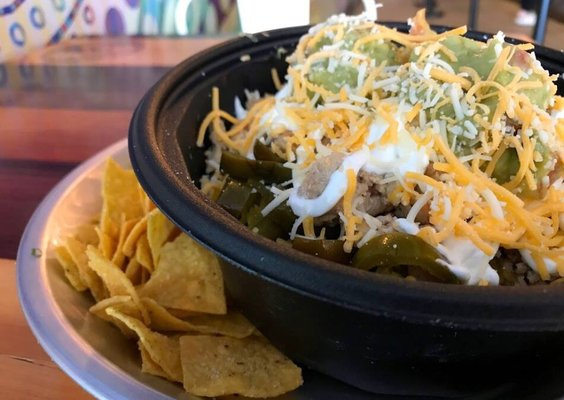sushi: (126, 13, 563, 390)
